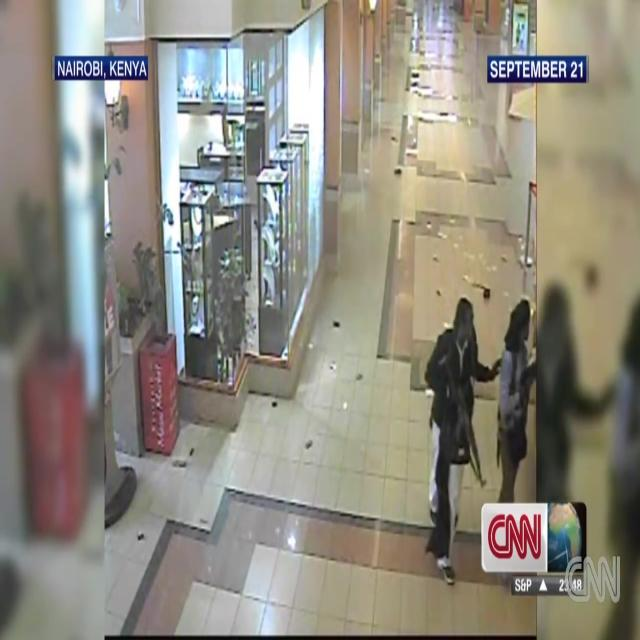Weapon: (440, 347, 483, 494), (517, 322, 547, 412)
